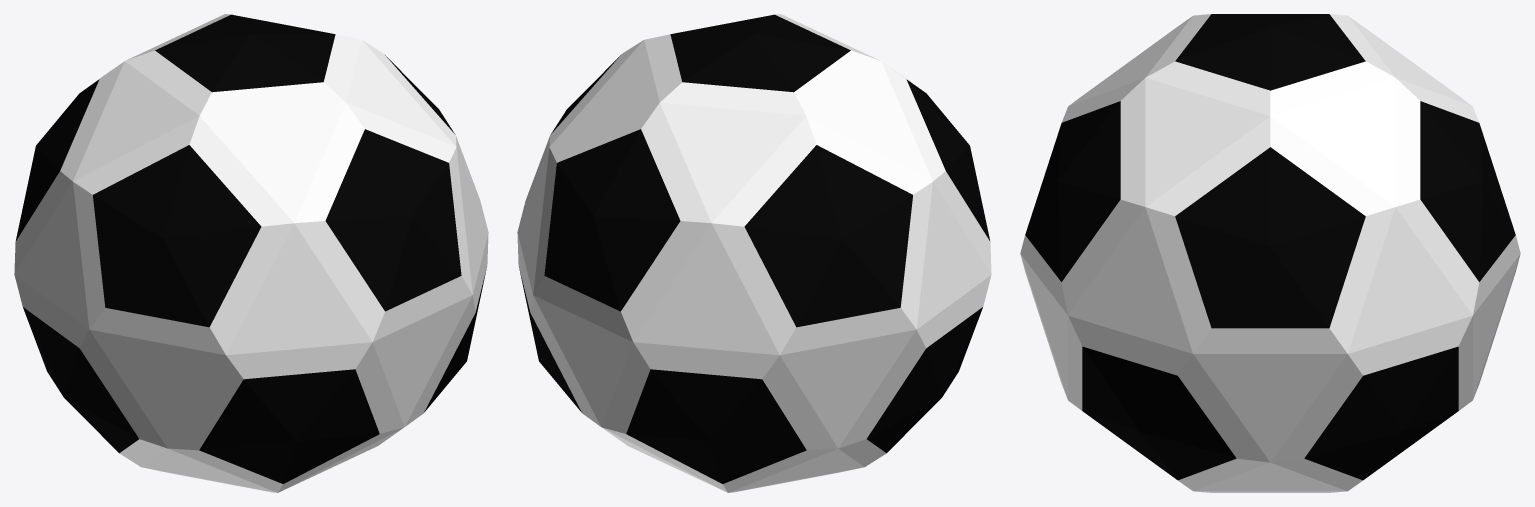
The model's file is pelota.fbx.
3 views of the same model, side by side, from view 1: azimuth 30°, elevation 25°; view 2: azimuth 150°, elevation 25°; view 3: azimuth 270°, elevation 25° (orthographic). The views are drawn at different scales.
Visible parts, largest first — view 1: Icosphere.021; view 2: Icosphere.021; view 3: Icosphere.021.
Part boxes in pixels (x1,y1,x2,y2): Icosphere.021: (14, 14, 488, 492); Icosphere.021: (517, 14, 991, 492); Icosphere.021: (1020, 14, 1520, 492).
Bounding box in the file's own units: 68.5 × 71.78 × 71.78.
